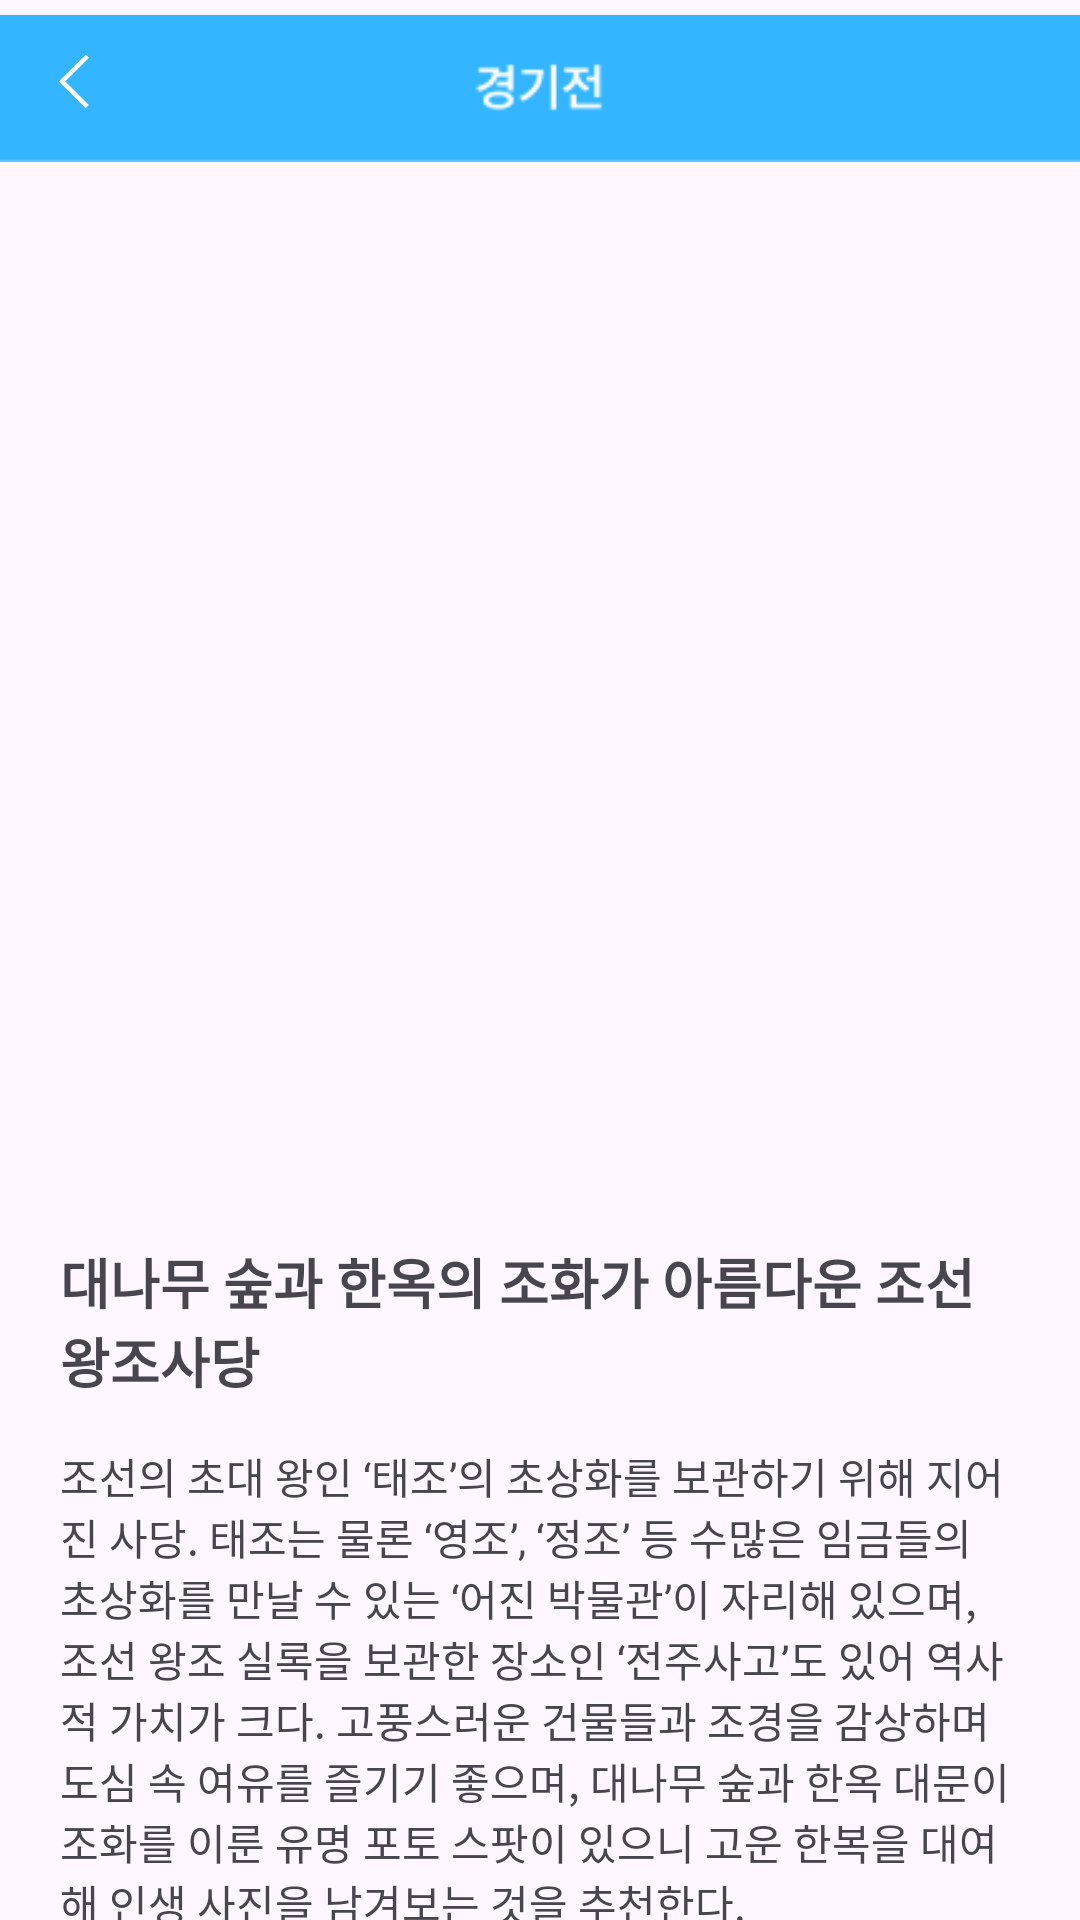

Icon bounding boxes for this 1080 × 1920 phone screenshot, format (x1, y1, x2, y2):
back: (59, 54, 89, 108)
